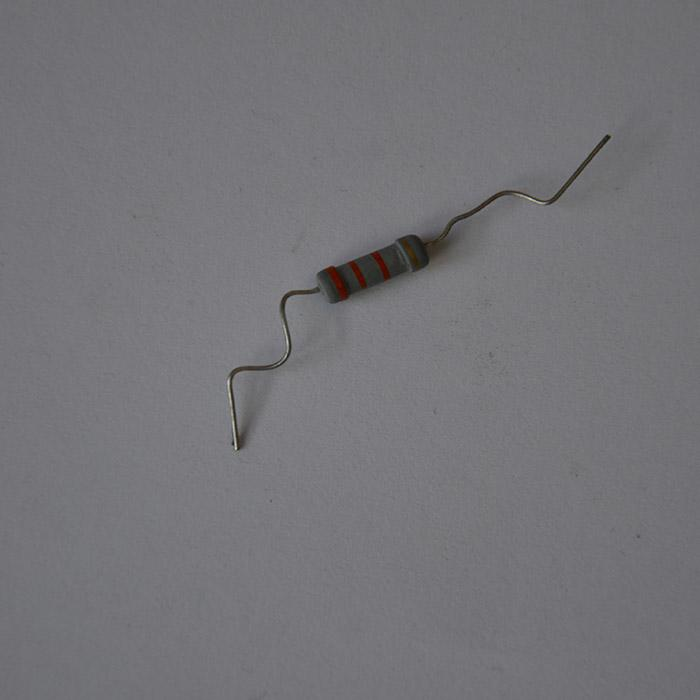resistor: (313, 232, 431, 305)
